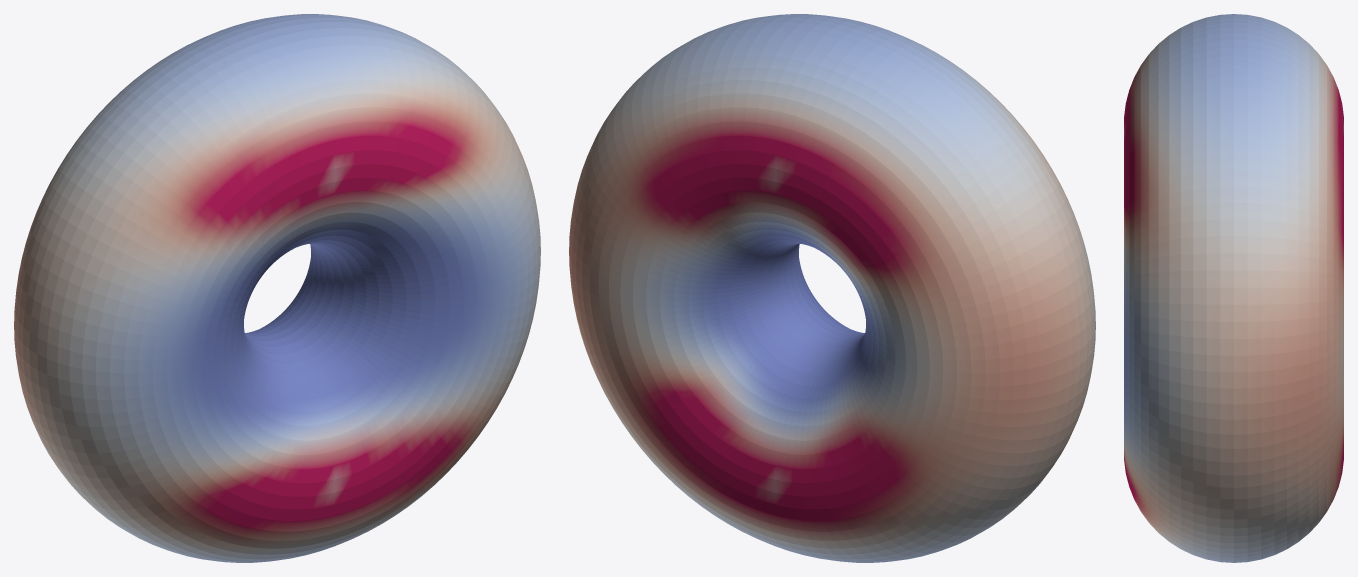
The picture shows the model from 3 angles, left to right: view 1: azimuth 30°, elevation 25°; view 2: azimuth 150°, elevation 25°; view 3: azimuth 270°, elevation 25°; orthographic projection. The views are drawn at different scales.
Parts seen in each view (by area): view 1: world; view 2: world; view 3: world.
Boxes of the visible parts, box(x1,y1,x2,y2) form: world: box(14, 14, 540, 562); world: box(569, 14, 1095, 562); world: box(1124, 14, 1343, 562).
Size of the model in its own units: 18.93 by 18.93 by 7.59.
